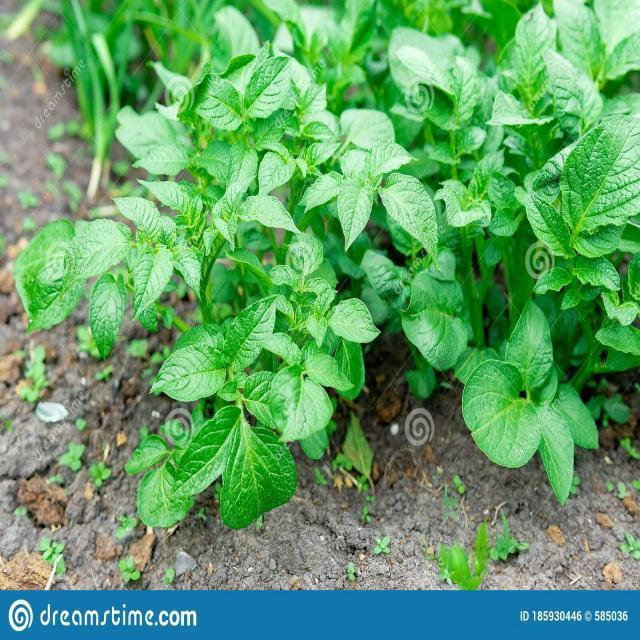Healthy Leaf: (562, 112, 640, 242), (462, 352, 543, 464), (16, 217, 84, 335), (172, 410, 246, 504), (379, 172, 446, 255), (506, 288, 554, 392), (238, 46, 294, 131), (142, 347, 232, 399), (128, 240, 172, 322), (339, 174, 373, 251), (331, 297, 383, 347)
